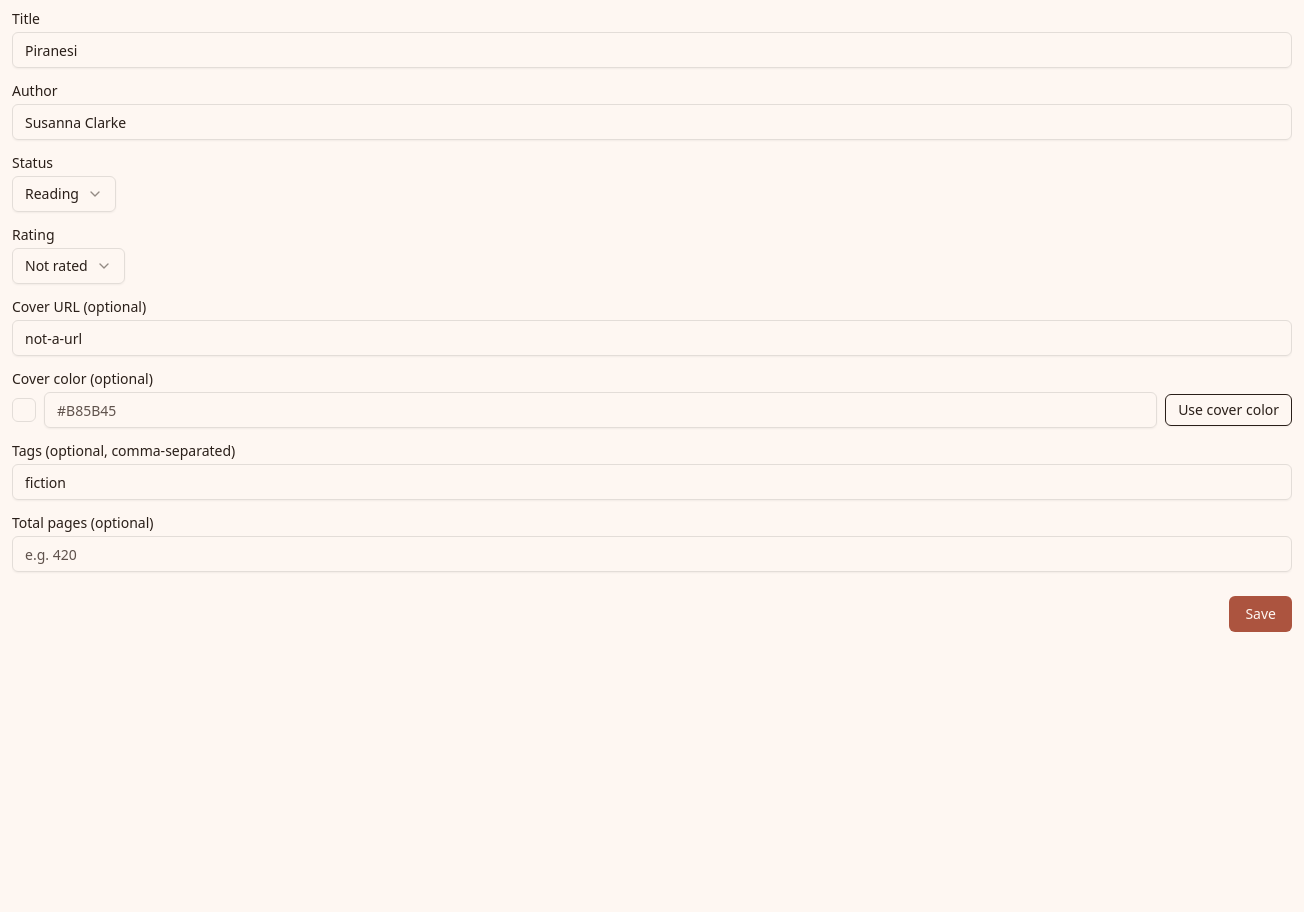
Scenario: BookForm › shows validation errors and keeps open on bad input
The width and height of the screenshot is (1304, 912).
Click the button "Save" at (1261,614), box [1229,596,1292,632]
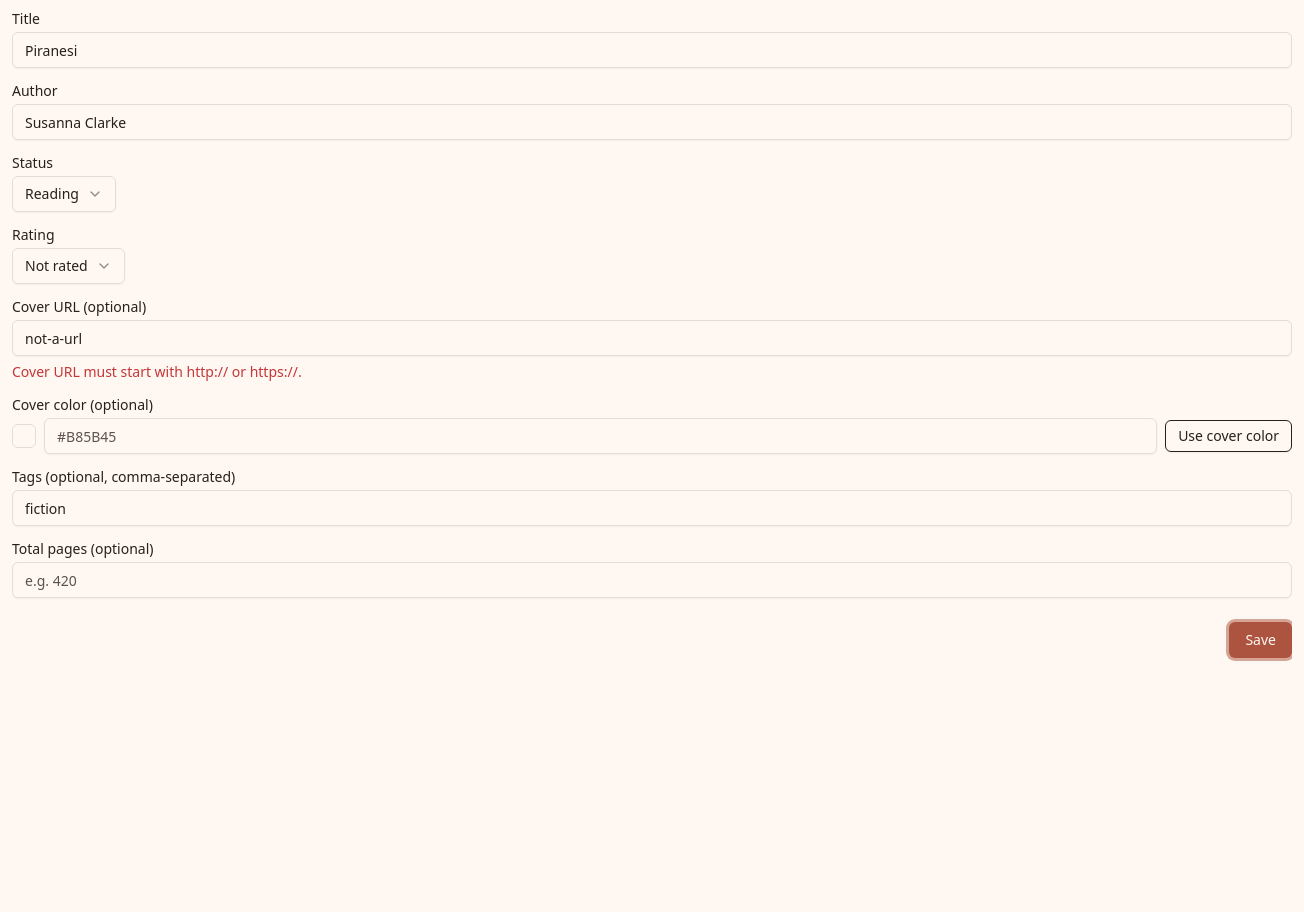
Expected: the text "Cover URL must start with http:// or https://." is shown, [12,362,302,381]
